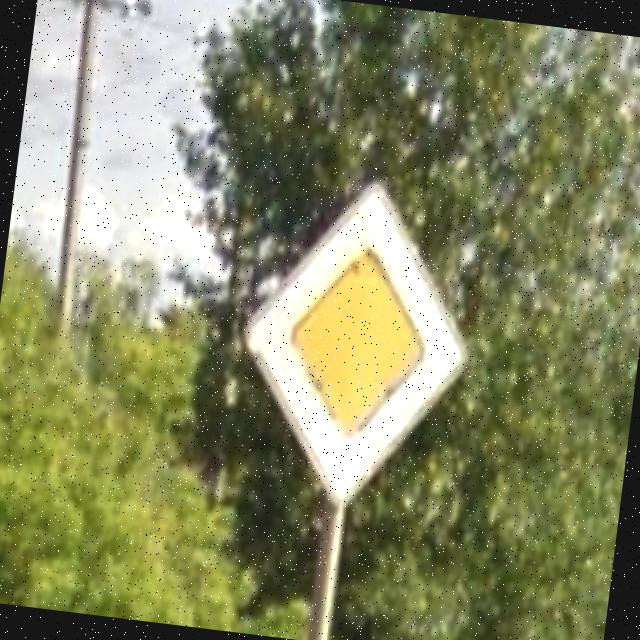Droga z pierwszenstwem: (224, 165, 490, 520)
